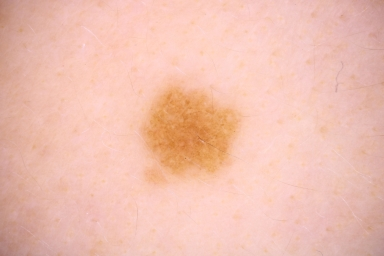nevus: (143, 89, 237, 186)
